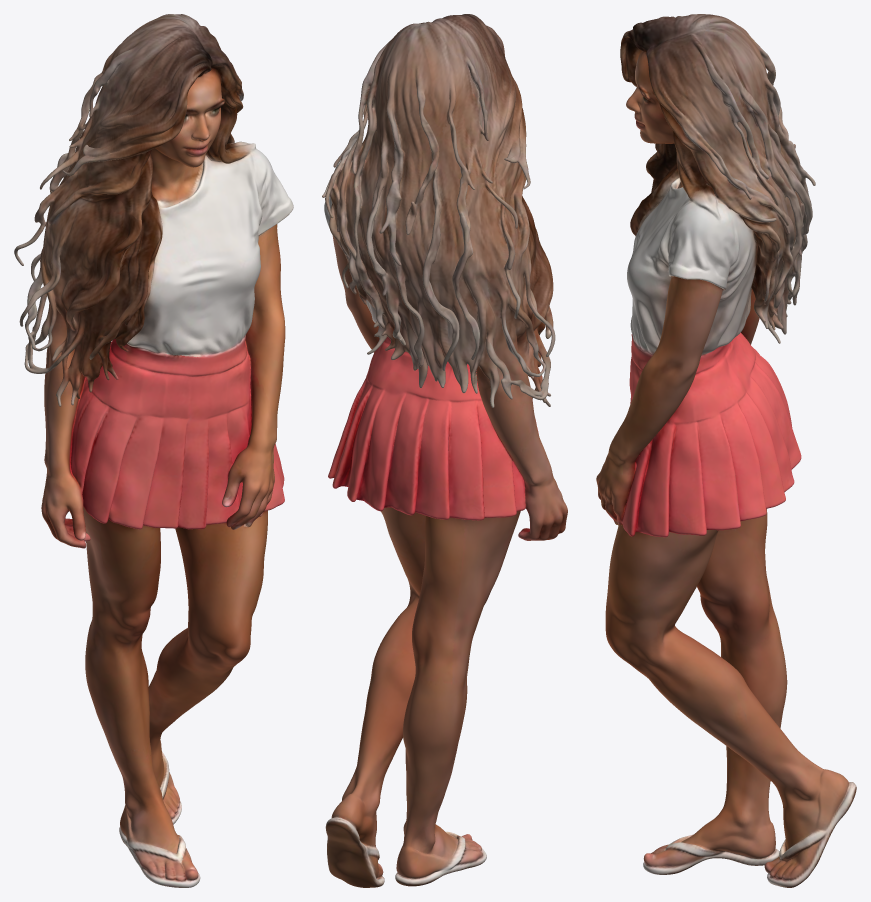
File: fashion+model+3d (1).glb
3 renders of one model, left to right at view 1: azimuth 30°, elevation 25°; view 2: azimuth 150°, elevation 25°; view 3: azimuth 270°, elevation 25°, orthographic.
Parts seen in each view (by area): view 1: tripo_node_13980738-f9a2-4055-9427-fd40cc72dff9; view 2: tripo_node_13980738-f9a2-4055-9427-fd40cc72dff9; view 3: tripo_node_13980738-f9a2-4055-9427-fd40cc72dff9.
Part boxes in pixels (x1,y1,x2,y2): tripo_node_13980738-f9a2-4055-9427-fd40cc72dff9: [14, 14, 293, 887]; tripo_node_13980738-f9a2-4055-9427-fd40cc72dff9: [322, 14, 567, 887]; tripo_node_13980738-f9a2-4055-9427-fd40cc72dff9: [596, 14, 856, 887].
Size of the model in its own units: 0.3049 by 1 by 0.2751.
Materials: 1 (1 with a texture image).
